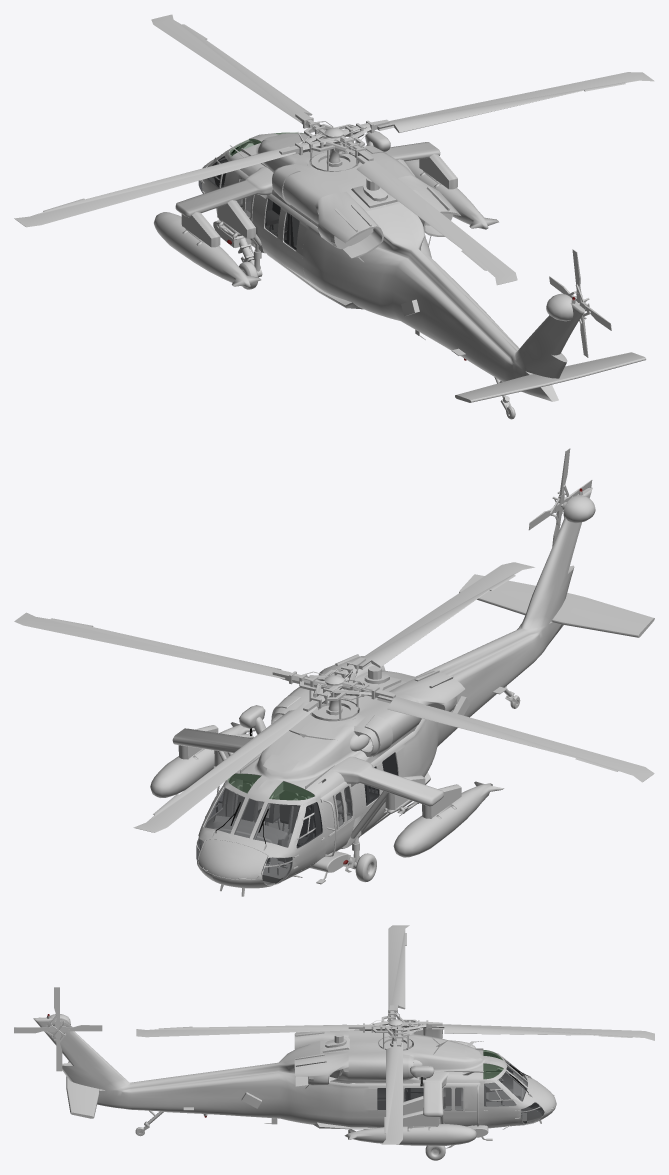
The picture shows the model from 3 angles, top to bottom: view 1: azimuth 30°, elevation 25°; view 2: azimuth 150°, elevation 25°; view 3: azimuth 270°, elevation 25°; orthographic projection. The views are drawn at different scales.
Parts seen in each view (by area): view 1: fuselage, main_rotor, Door_L, elevator, rear_rotor; view 2: fuselage, main_rotor, elevator, cabinDoo13, Door_L, rear_rotor; view 3: fuselage, main_rotor, cabinDoor_, rear_rotor, elevator, Door_R.
Boxes of the visible parts, x1,y1,x2,y2 form: fuselage: (154, 130, 584, 414); main_rotor: (14, 14, 654, 285); Door_L: (260, 196, 308, 280); elevator: (455, 352, 646, 402); rear_rotor: (549, 249, 611, 357); fuselage: (150, 487, 595, 896); main_rotor: (14, 562, 654, 832); elevator: (459, 574, 654, 637); cabinDoo13: (290, 797, 325, 875); Door_L: (360, 746, 404, 833); rear_rotor: (528, 448, 592, 546); fuselage: (33, 1014, 556, 1148); main_rotor: (136, 925, 654, 1144); cabinDoor_: (480, 1080, 519, 1125); rear_rotor: (14, 987, 102, 1071); elevator: (66, 1061, 99, 1118); Door_R: (369, 1086, 423, 1127).
Size of the model in its own units: 15.93 by 5.23 by 19.69.
